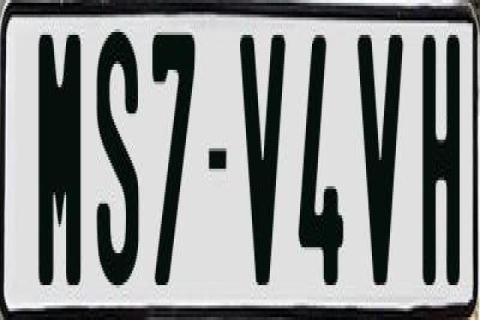0: (298, 32, 344, 285), (152, 32, 196, 282)
H: (420, 29, 460, 294)
M: (37, 35, 85, 299)
S: (94, 29, 142, 288)
V: (237, 29, 290, 282), (358, 35, 404, 297)
